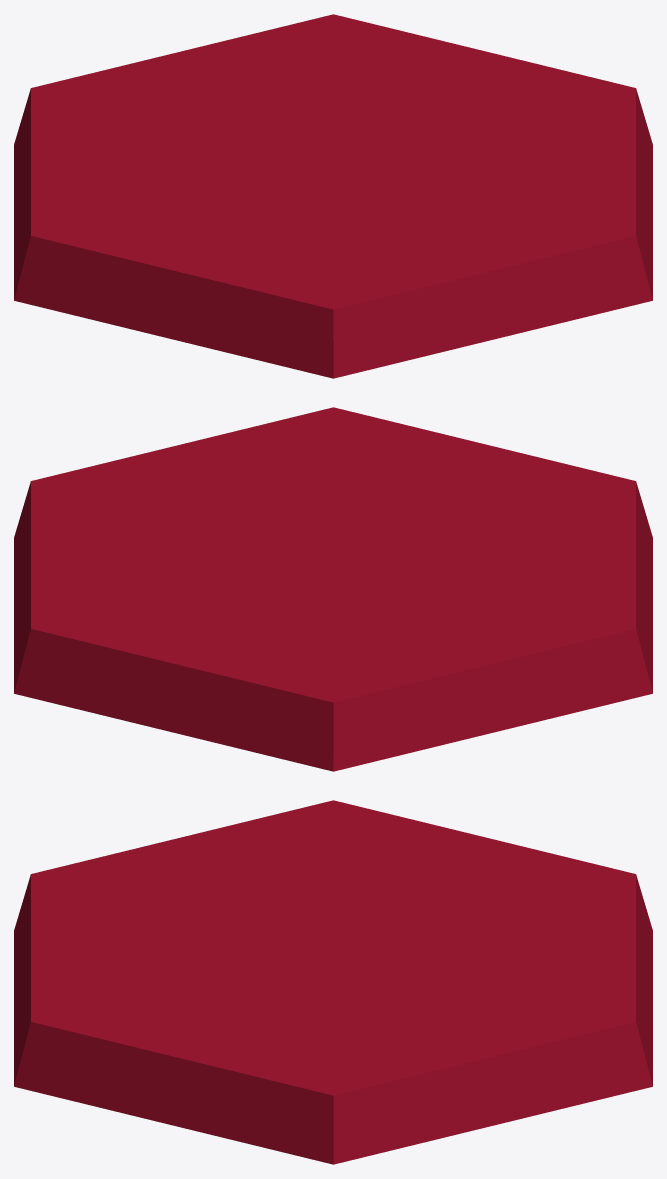
The model's file is mine-light.obj.
3 views of the same model, one above another, from view 1: azimuth 30°, elevation 25°; view 2: azimuth 150°, elevation 25°; view 3: azimuth 270°, elevation 25° (orthographic).
Parts seen in each view (by area): view 1: mine-light.obj; view 2: mine-light.obj; view 3: mine-light.obj.
Part boxes in pixels (<box>): mine-light.obj: <box>14,14,652,378</box>; mine-light.obj: <box>14,407,652,771</box>; mine-light.obj: <box>14,800,652,1164</box>.
Size of the model in its own units: 0.2503 by 0.0236 by 0.2168.
